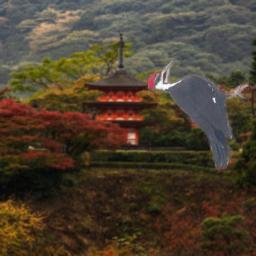Woodpecker: (145, 60, 249, 169)
